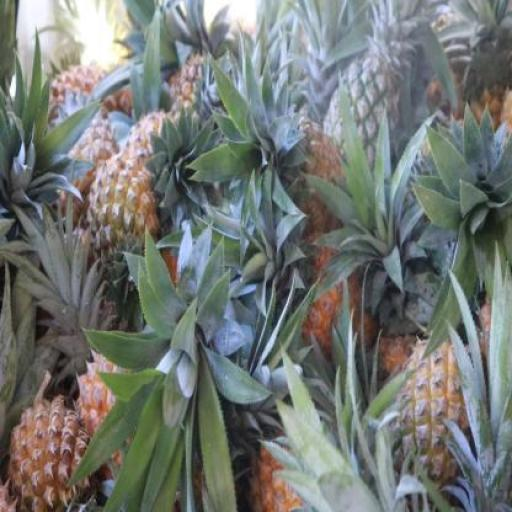------------------------------: (387, 337, 471, 490), (89, 156, 156, 290)
Pineapple - v8 v1: (10, 394, 87, 512)
